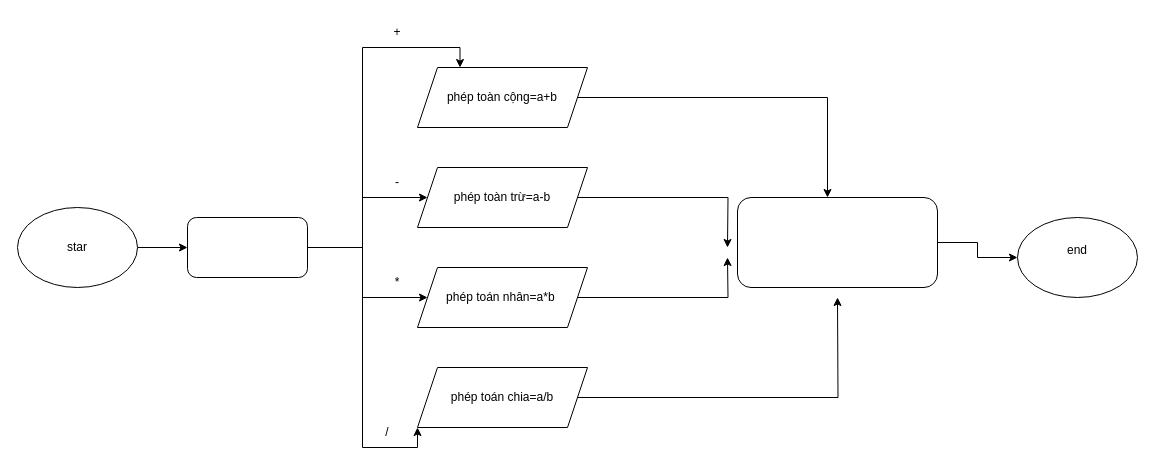
Image size: 1155x473. Some labels were removed from this diagram. The shapes that lost their labels are listed below. From the top down, each one's centre as x and y in pixels, then its label:
point 247,247: nhập số a,b,phép tính
point 837,242: kết quả
